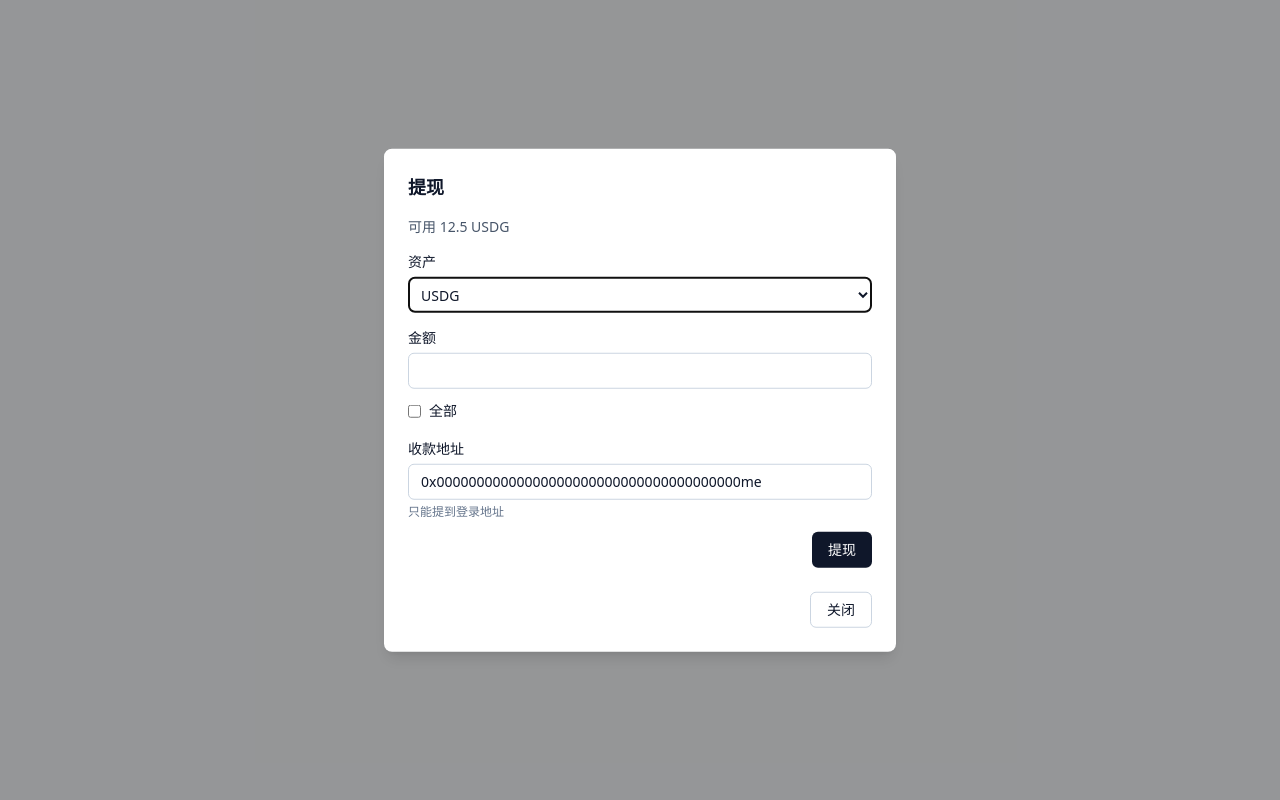
Scenario: sends "all" for ETH when the checkbox is on and shows the 202 note
The width and height of the screenshot is (1280, 800).
Select "ETH" in the dropdown labelled "资产": (640, 295) [408,277,872,313]
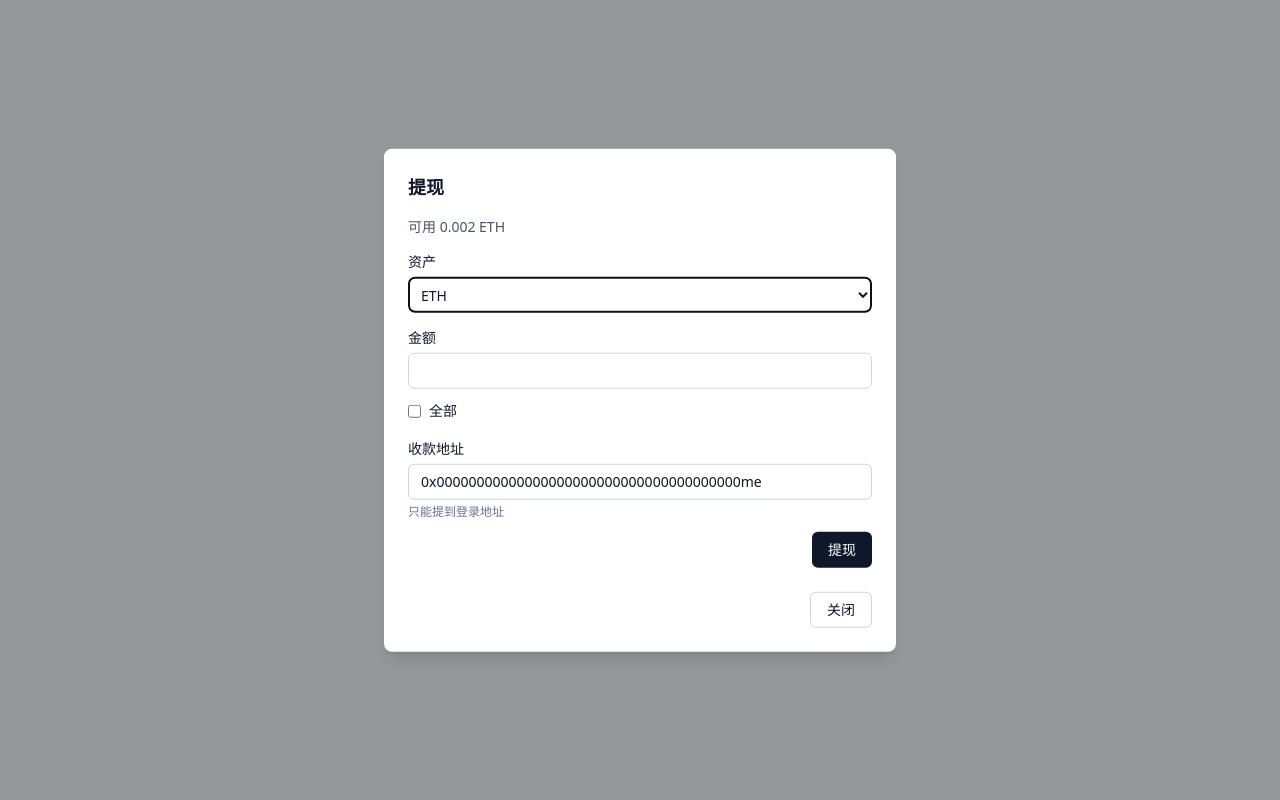
Now the text "可用 0.002 ETH" is shown, box [408,217,505,236]
Click the checkbox labelled "全部": (414, 411) [408,404,421,417]
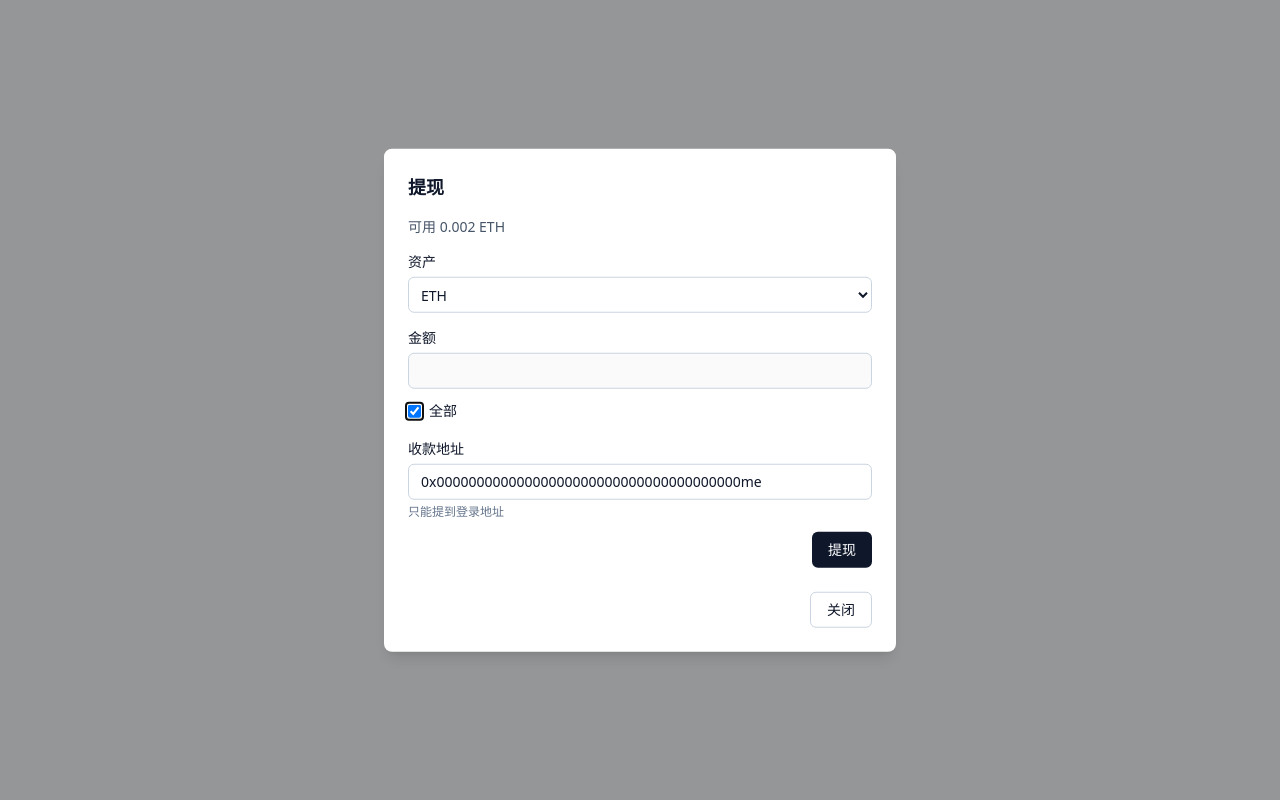
Click the button "提现": (842, 549) [812,531,872,567]
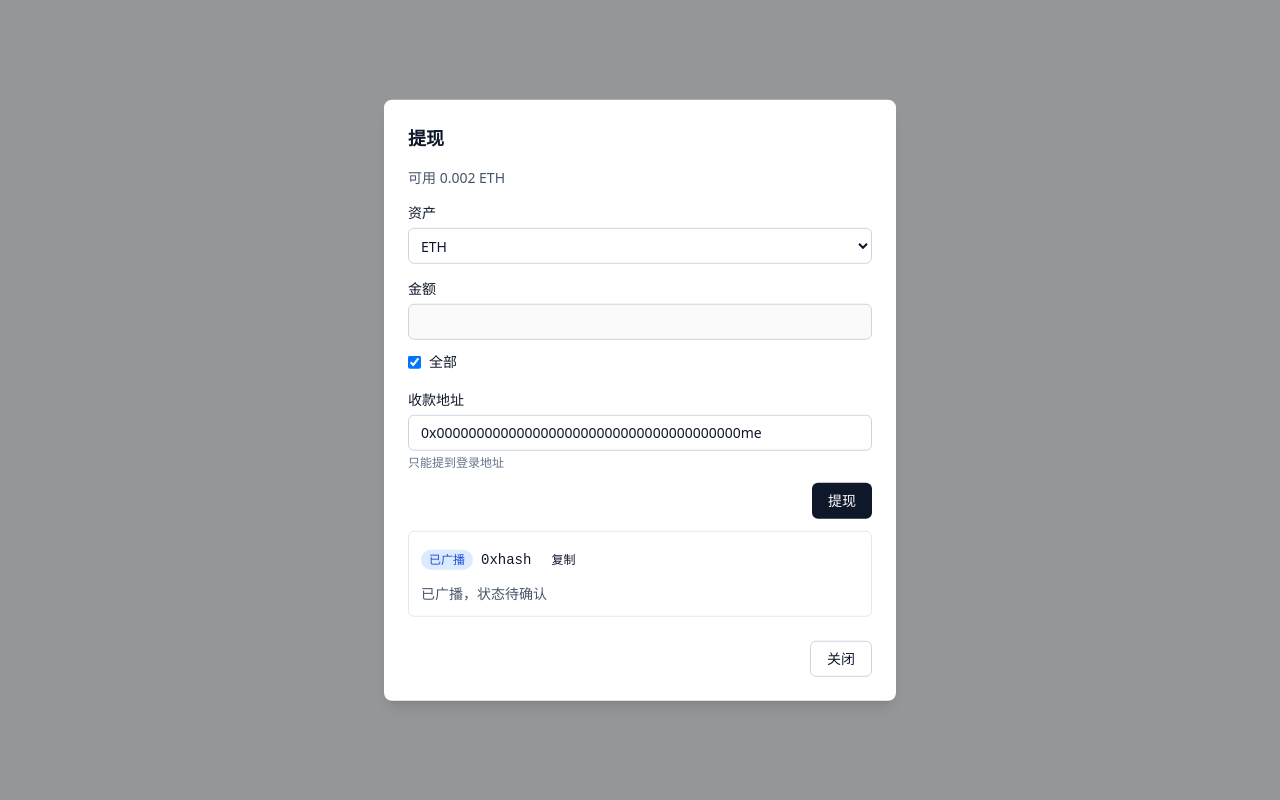
Now the text "已广播，状态待确认" is shown, box [421,583,547,602]
